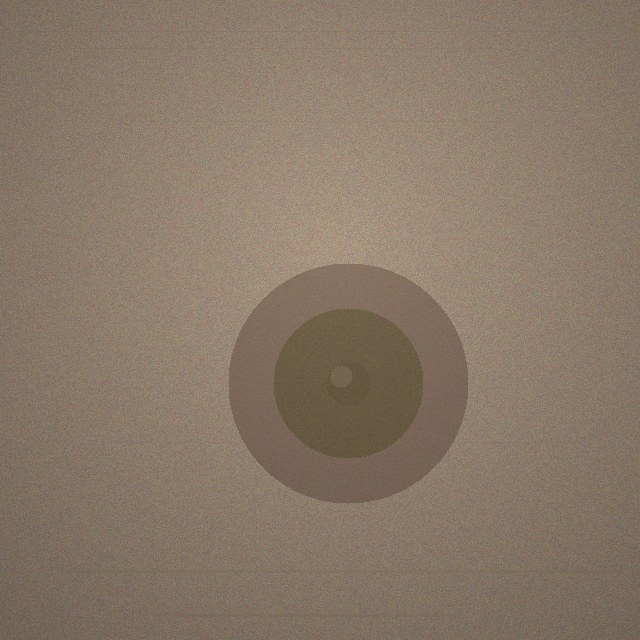good: (228, 263, 468, 503)
